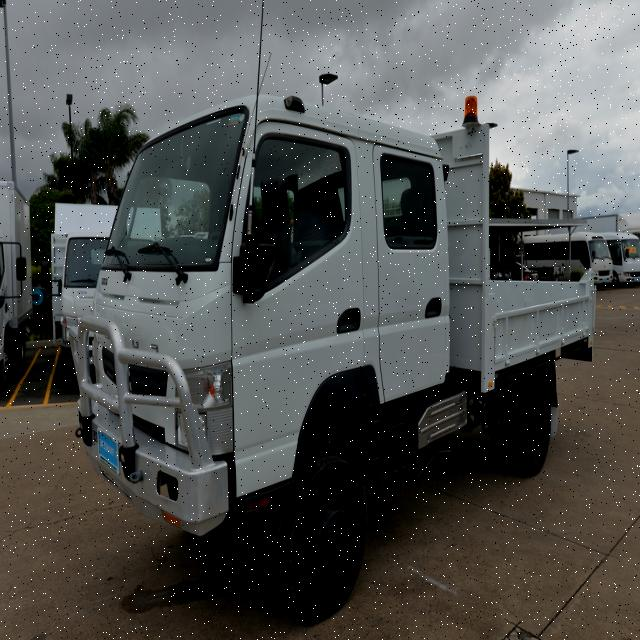truck: (74, 90, 600, 560)
